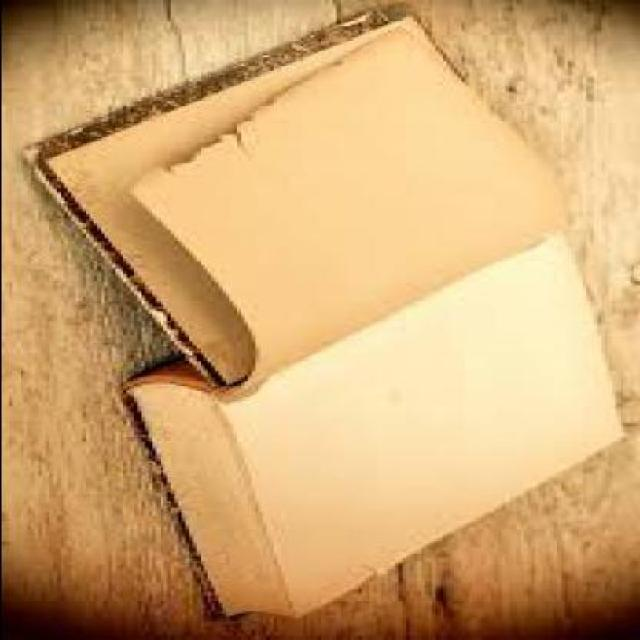PAPER: (25, 7, 626, 616), (128, 25, 574, 388), (213, 229, 629, 614)
